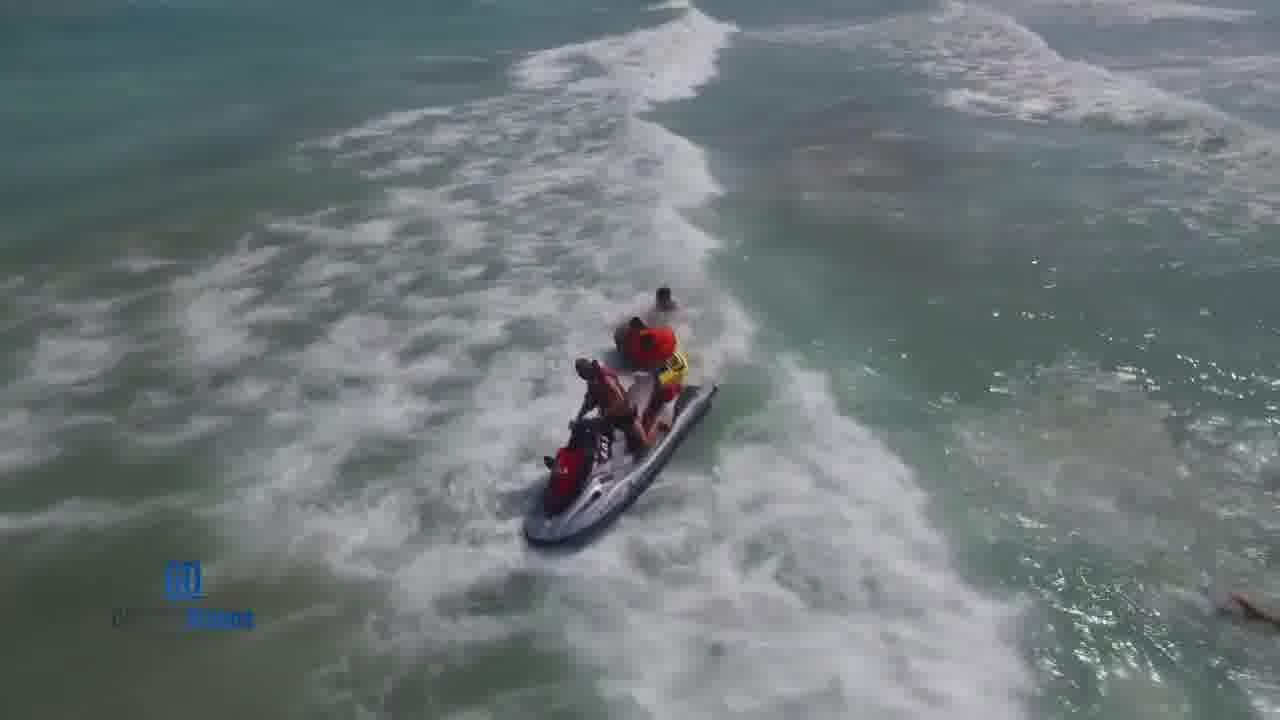swimmer: (636, 275, 704, 319)
